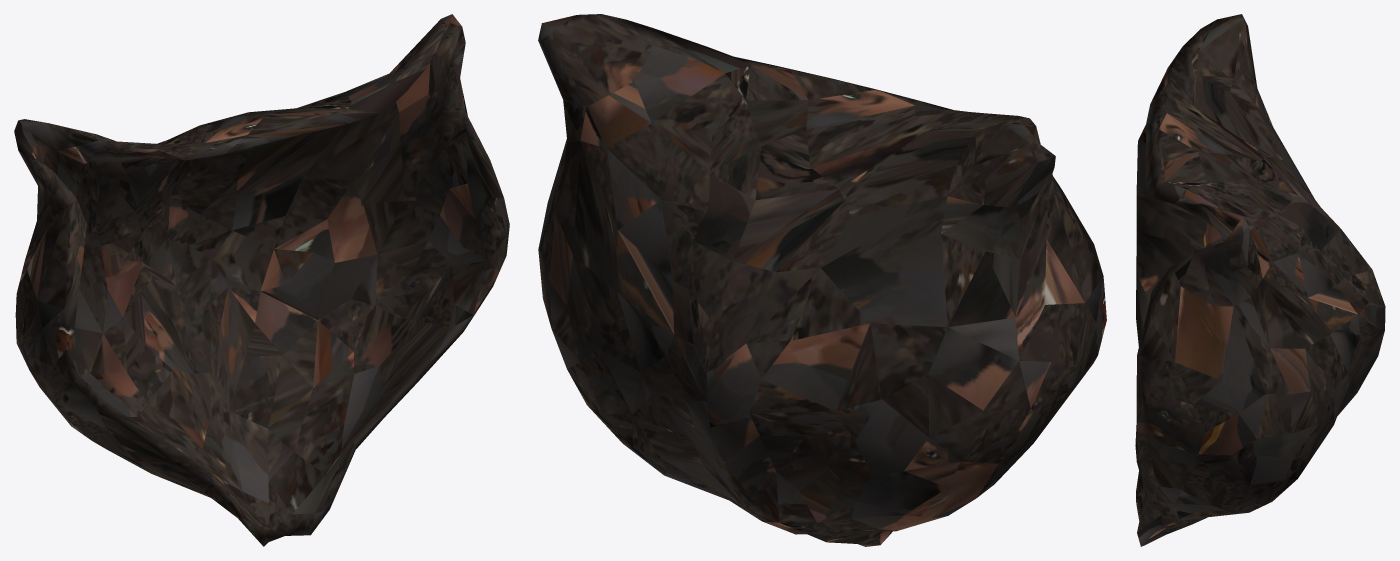
Rendered from LowPolyPetal.fbx.
3 views of the same model, side by side, from view 1: azimuth 30°, elevation 25°; view 2: azimuth 150°, elevation 25°; view 3: azimuth 270°, elevation 25° (orthographic). The views are drawn at different scales.
Visible parts, largest first — view 1: Mesh_0; view 2: Mesh_0; view 3: Mesh_0.
Boxes of the visible parts, x1,y1,x2,y2 form: Mesh_0: (14,14,509,546); Mesh_0: (538,14,1106,546); Mesh_0: (1135,14,1385,546).
Bounding box in the file's own units: 190 × 173 × 92.6.
